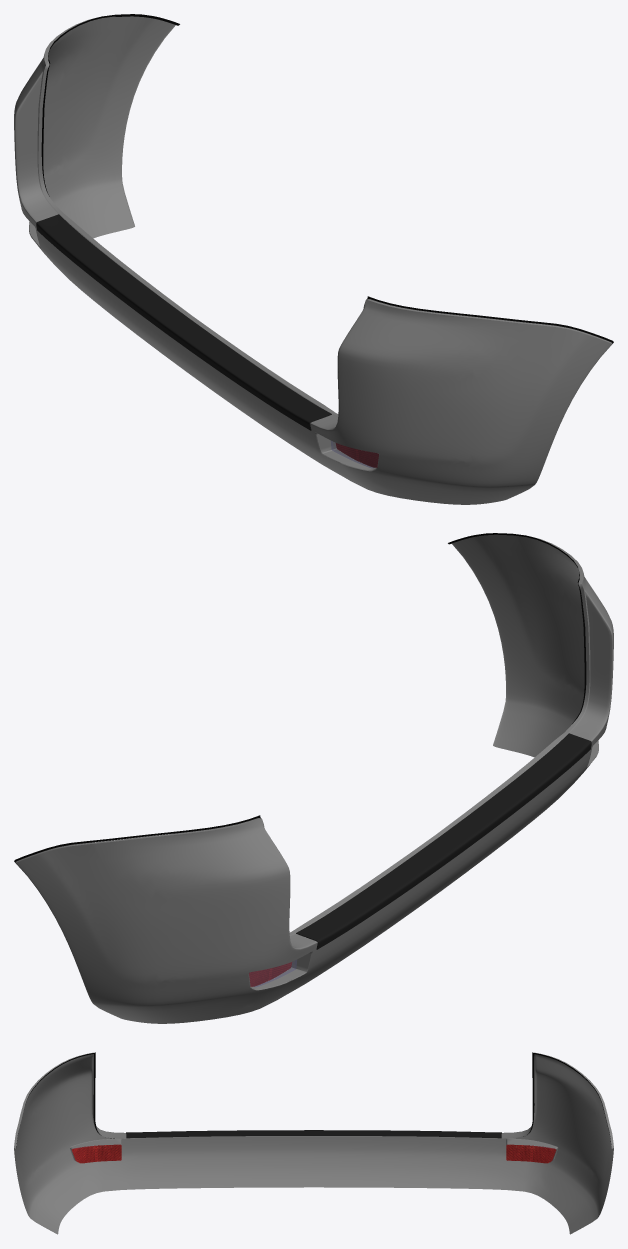
The picture shows the model from 3 angles, top to bottom: view 1: azimuth 30°, elevation 25°; view 2: azimuth 150°, elevation 25°; view 3: azimuth 270°, elevation 25°; orthographic projection. The views are drawn at different scales.
Parts seen in each view (by area): view 1: Y712_561G_C_Y712_561G_C_4_DaS, Y712_561G_C_Y712_561G_C_3_D, Y712_561G_C_Y712_561G_C_4_DaS_E, Y712_561G_C_Y712_561G_C_7_D; view 2: Y712_561G_C_Y712_561G_C_4_DaS, Y712_561G_C_Y712_561G_C_3_D, Y712_561G_C_Y712_561G_C_4_DaS_E, Y712_561G_C_Y712_561G_C_7_D; view 3: Y712_561G_C_Y712_561G_C_4_DaS, Y712_561G_C_Y712_561G_C_3_D, Y712_561G_C_Y712_561G_C_4_DaS_E, Y712_561G_C_1_N_Y712_561G_C, Y712_561G_C_Y712_561G_C_2_N, Y712_561G_C_Y712_561G_C_7_D.
Part boxes in pixels (x1=…): Y712_561G_C_Y712_561G_C_4_DaS: x1=14, y1=16, x2=611, y2=504; Y712_561G_C_Y712_561G_C_3_D: x1=36, y1=214, x2=331, y2=430; Y712_561G_C_Y712_561G_C_4_DaS_E: x1=29, y1=17, x2=612, y2=484; Y712_561G_C_Y712_561G_C_7_D: x1=41, y1=14, x2=613, y2=343; Y712_561G_C_Y712_561G_C_4_DaS: x1=16, y1=534, x2=613, y2=1023; Y712_561G_C_Y712_561G_C_3_D: x1=296, y1=733, x2=591, y2=949; Y712_561G_C_Y712_561G_C_4_DaS_E: x1=15, y1=536, x2=598, y2=995; Y712_561G_C_Y712_561G_C_7_D: x1=14, y1=533, x2=586, y2=862; Y712_561G_C_Y712_561G_C_4_DaS: x1=14, y1=1054, x2=613, y2=1234; Y712_561G_C_Y712_561G_C_3_D: x1=126, y1=1130, x2=501, y2=1138; Y712_561G_C_Y712_561G_C_4_DaS_E: x1=14, y1=1052, x2=613, y2=1233; Y712_561G_C_1_N_Y712_561G_C: x1=506, y1=1144, x2=556, y2=1163; Y712_561G_C_Y712_561G_C_2_N: x1=72, y1=1144, x2=121, y2=1163; Y712_561G_C_Y712_561G_C_7_D: x1=14, y1=1052, x2=613, y2=1148.
Size of the model in its own units: 70.74 by 61.47 by 230.
